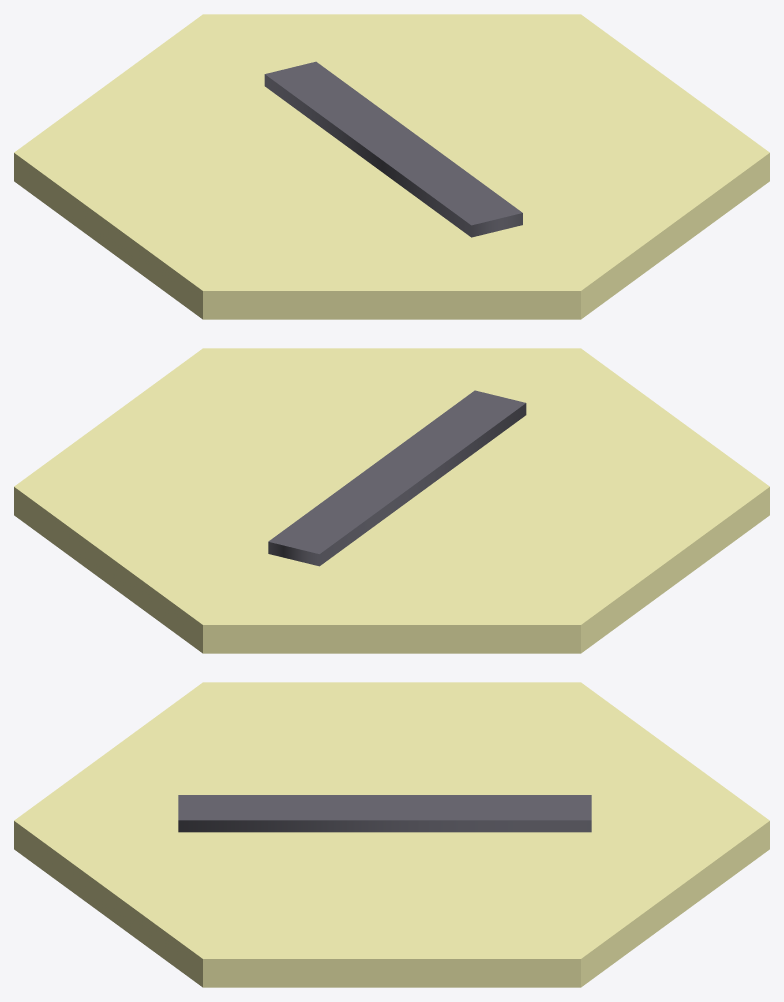
The model's file is station_1.dae.
3 renders of one model, top to bottom at view 1: azimuth 30°, elevation 25°; view 2: azimuth 150°, elevation 25°; view 3: azimuth 270°, elevation 25°, orthographic.
Visible parts, largest first — view 1: Text_001; view 2: Text_001; view 3: Text_001.
Boxes of the visible parts, x1,y1,x2,y2 form: Text_001: (14,14,769,319); Text_001: (14,348,769,653); Text_001: (14,682,769,987).
Bounding box in the file's own units: 0.7359 × 0.8498 × 0.0506.
